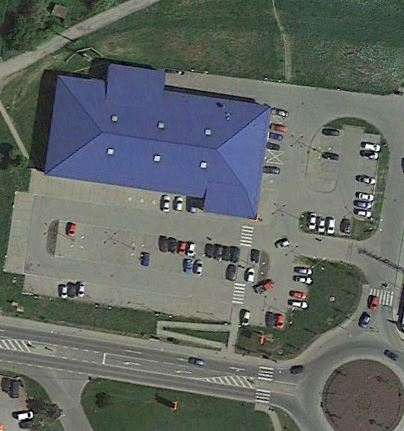shopping_center: (38, 57, 277, 221)
